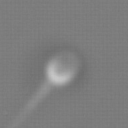normal: (9, 81, 52, 128)
